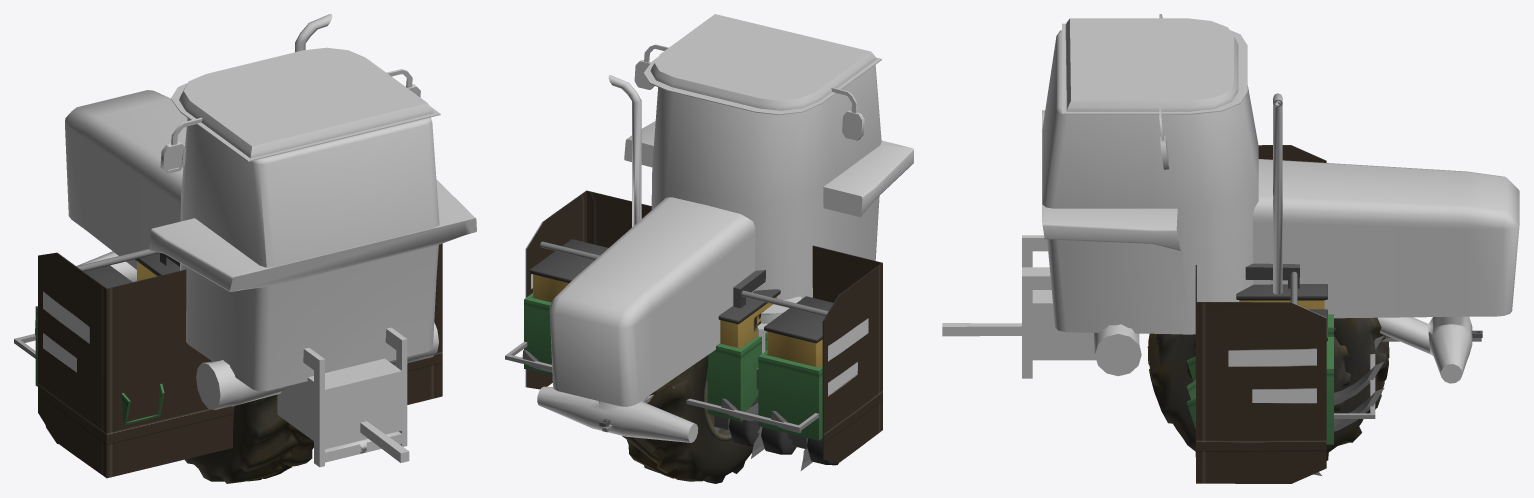
Rendered from AGROTractor.fbx.
The picture shows the model from 3 angles, left to right: view 1: azimuth 30°, elevation 25°; view 2: azimuth 150°, elevation 25°; view 3: azimuth 270°, elevation 25°; orthographic projection. The views are drawn at different scales.
Visible parts, largest first — view 1: Tractor, Плуг, WheelRear, Сеялка.002, Сеялка; view 2: Tractor, Плуг, Сеялка, WheelRear, Сеялка.002, Сеялка.001, Сеялка переднее левое.001, Плуг.003; view 3: Tractor, Плуг, WheelRear, Сеялка, Сеялка.001, Плуг.004, WheelFront.
Boxes of the visible parts, x1,y1,x2,y2 form: Tractor: (65, 14, 476, 467); Плуг: (38, 243, 442, 478); WheelRear: (185, 394, 313, 483); Сеялка.002: (84, 253, 179, 288); Сеялка: (14, 306, 164, 425); Tractor: (537, 14, 913, 442); Плуг: (525, 190, 882, 462); Сеялка: (505, 293, 822, 449); WheelRear: (622, 355, 753, 483); Сеялка.002: (718, 289, 833, 367); Сеялка.001: (529, 239, 608, 302); Сеялка переднее левое.001: (729, 396, 839, 465); Плуг.003: (672, 386, 801, 432); Tractor: (942, 14, 1519, 383); Плуг: (1195, 145, 1482, 483); WheelRear: (1147, 317, 1389, 460); Сеялка: (1187, 314, 1481, 444); Сеялка.001: (1236, 284, 1327, 340); Плуг.004: (1334, 335, 1384, 431); WheelFront: (1186, 327, 1350, 411).
Size of the model in its own units: 268 by 326 by 415.
